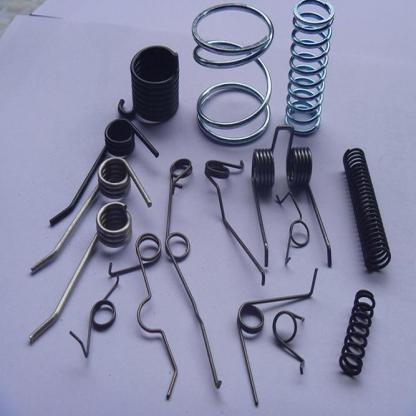FOD: (26, 198, 132, 347), (30, 152, 154, 276), (165, 155, 224, 390), (46, 114, 162, 230), (189, 3, 277, 148), (234, 264, 320, 408), (203, 156, 265, 287), (283, 0, 337, 137), (342, 141, 393, 277), (116, 44, 182, 126), (68, 271, 120, 358), (338, 287, 378, 378), (270, 305, 308, 376)
